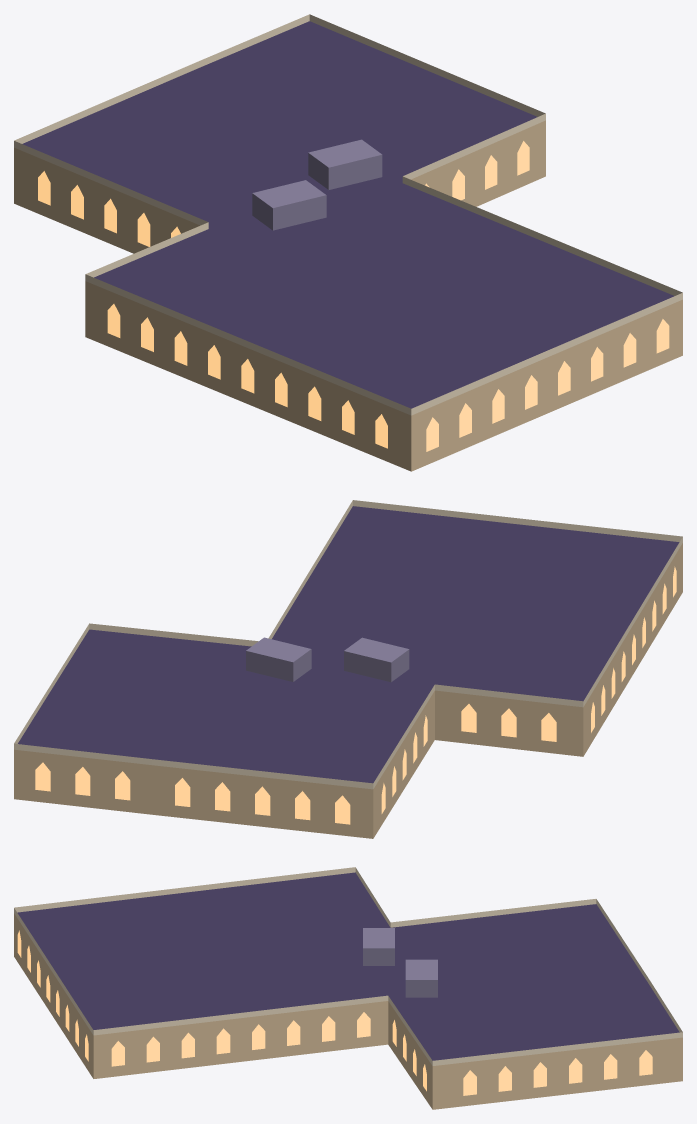
The model's file is b-075-power-plant.glb.
3 renders of one model, top to bottom at view 1: azimuth 30°, elevation 25°; view 2: azimuth 150°, elevation 25°; view 3: azimuth 270°, elevation 25°, orthographic. The views are drawn at different scales.
Parts seen in each view (by area): view 1: campus/b-075-power-plant-0; view 2: campus/b-075-power-plant-0; view 3: campus/b-075-power-plant-0.
Part boxes in pixels (box(x1,y1,x2,y2)): campus/b-075-power-plant-0: box(14, 14, 682, 471); campus/b-075-power-plant-0: box(14, 500, 682, 838); campus/b-075-power-plant-0: box(14, 867, 682, 1109).
Size of the model in its own units: 42.8 by 6.3 by 62.45.
